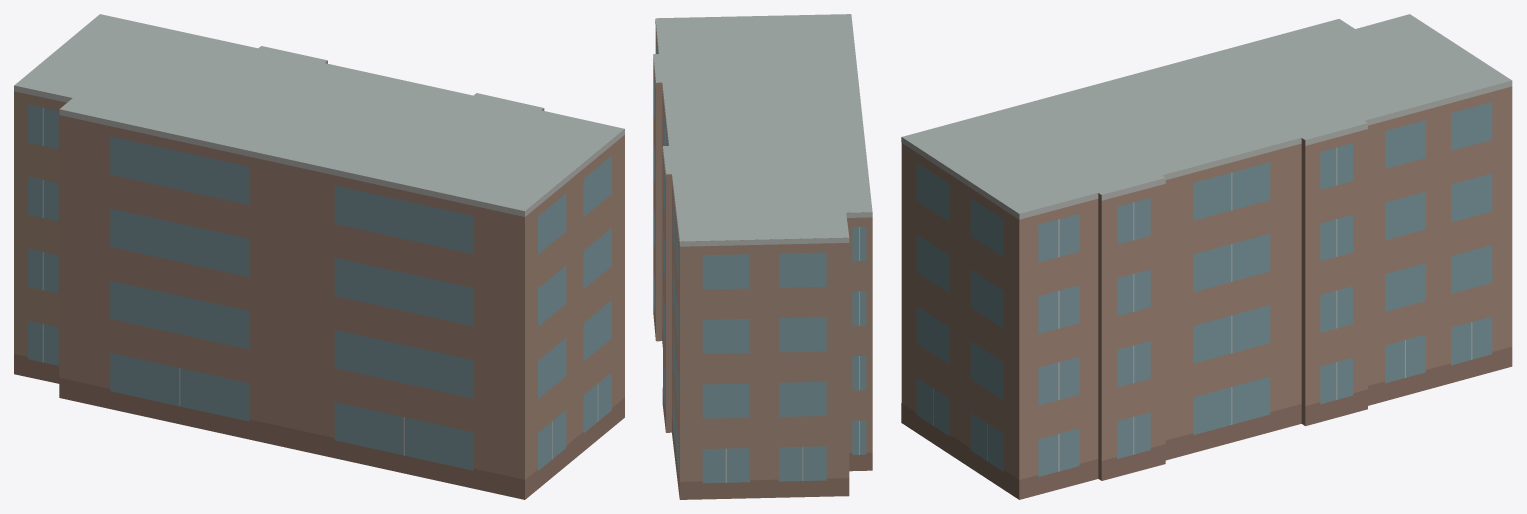
The model's file is survey-upis-33044146.glb.
3 views of the same model, side by side, from view 1: azimuth 30°, elevation 25°; view 2: azimuth 150°, elevation 25°; view 3: azimuth 270°, elevation 25° (orthographic). The views are drawn at different scales.
Visible parts, largest first — view 1: survey-upis-33044146.tmp; view 2: survey-upis-33044146.tmp; view 3: survey-upis-33044146.tmp.
Part boxes in pixels (bbox=[...]): survey-upis-33044146.tmp: bbox=[14, 14, 624, 499]; survey-upis-33044146.tmp: bbox=[653, 14, 872, 499]; survey-upis-33044146.tmp: bbox=[901, 14, 1512, 499].
Bounding box in the file's own units: 18.15 × 12.1 × 23.43.
